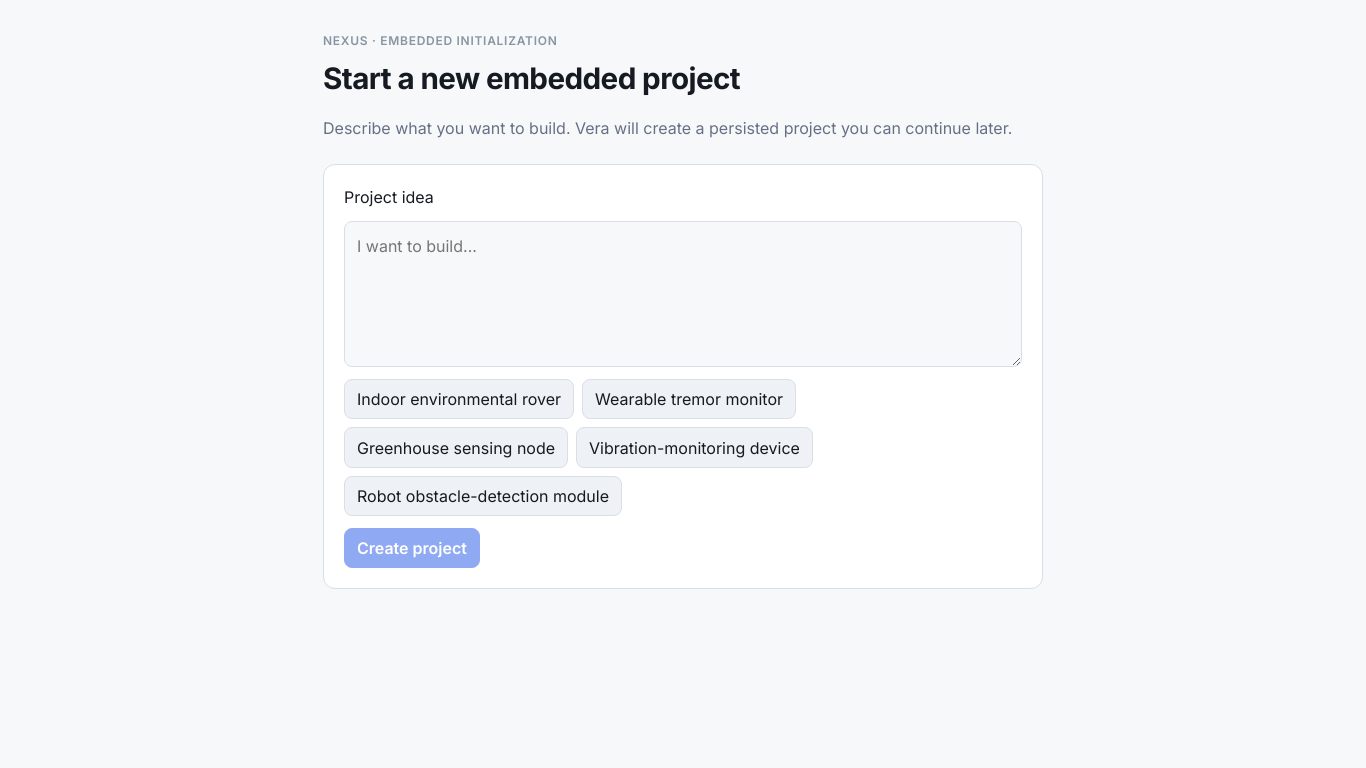
Test: Nexus web routing and project workspace › navigates to project route after successful initialization
Click the button "Wearable tremor monitor" at [689, 399], box [582, 379, 796, 419]
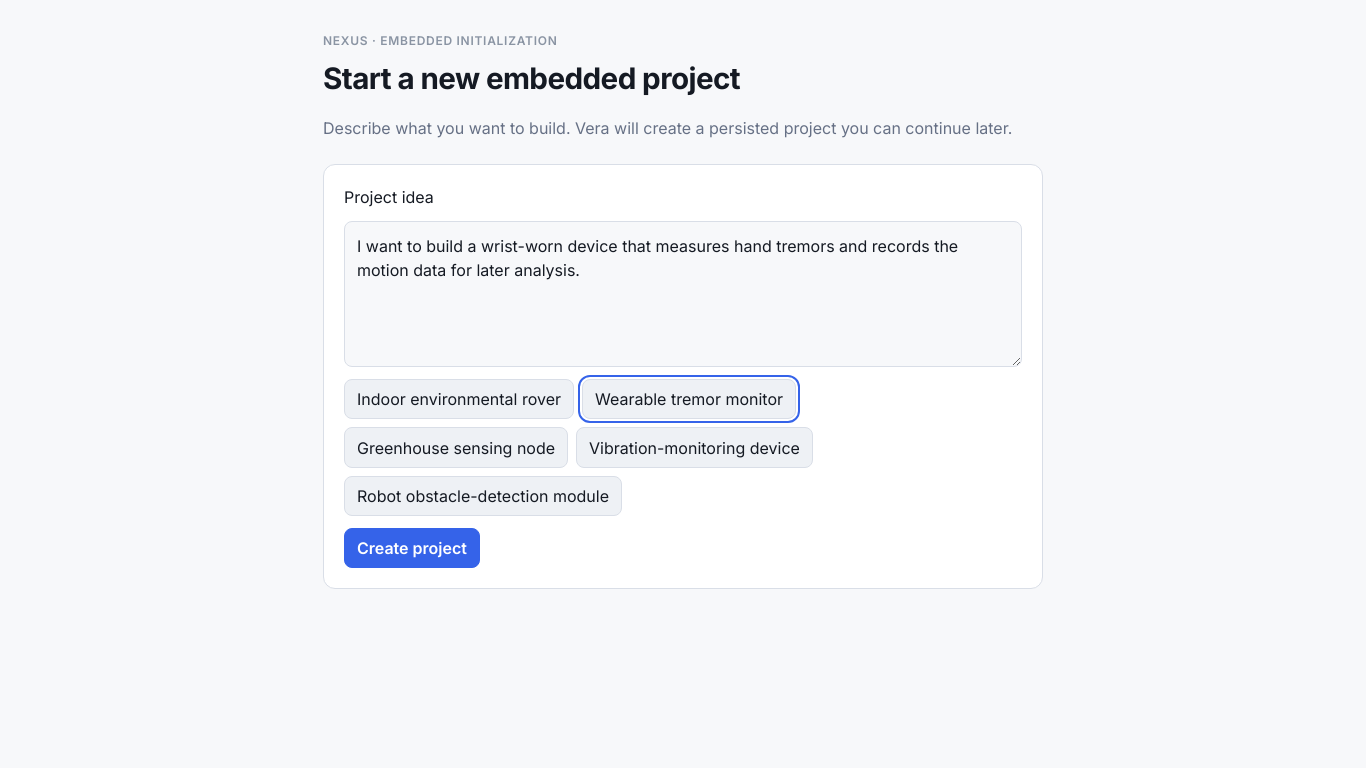
Click the button "Create project" at [412, 548], box [344, 528, 480, 568]
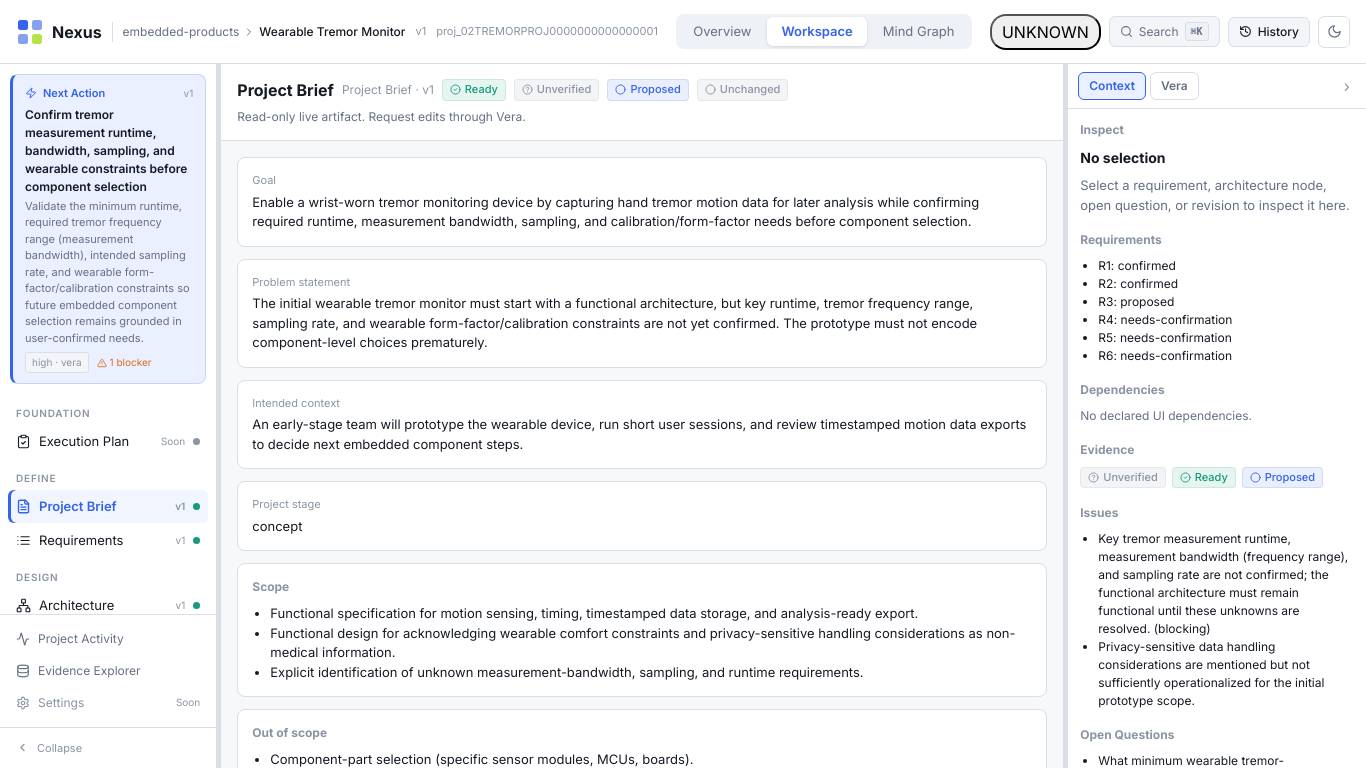
Expected: the text "proj_02TREMORPROJ0000000000000001" is shown, [436, 23, 658, 40]
Expected: the element with test id "figma-shell" is shown
Expected: the tab "Vera" is shown, [1150, 72, 1199, 100]
